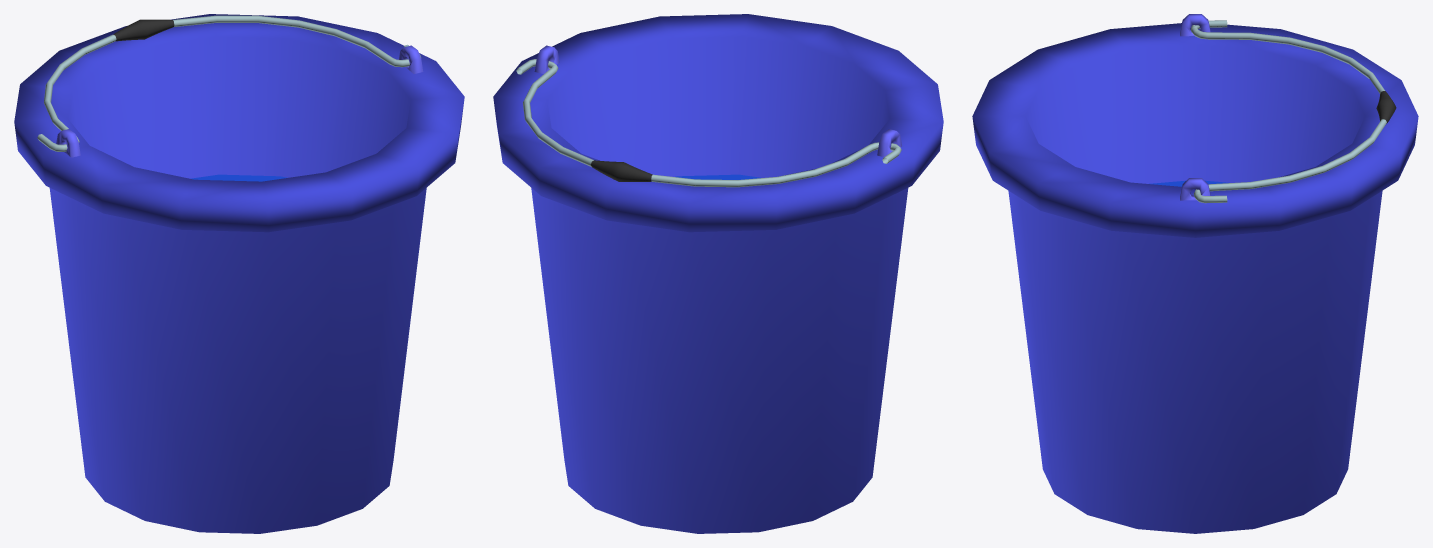
File: TheKidBucket.fbx
3 renders of one model, left to right at view 1: azimuth 30°, elevation 25°; view 2: azimuth 150°, elevation 25°; view 3: azimuth 270°, elevation 25°, orthographic.
Parts seen in each view (by area): view 1: Bucket, BucketHandle; view 2: Bucket, BucketHandle; view 3: Bucket, BucketHandle.
Boxes of the visible parts, left/top/right/bottom form: Bucket: left=14, top=14, right=464, bottom=533; BucketHandle: left=37, top=15, right=421, bottom=151; Bucket: left=493, top=14, right=943, bottom=533; BucketHandle: left=516, top=59, right=901, bottom=187; Bucket: left=972, top=14, right=1418, bottom=533; BucketHandle: left=1191, top=20, right=1396, bottom=203.
Bounding box in the file's own units: 2.02 × 2.02 × 1.86.
